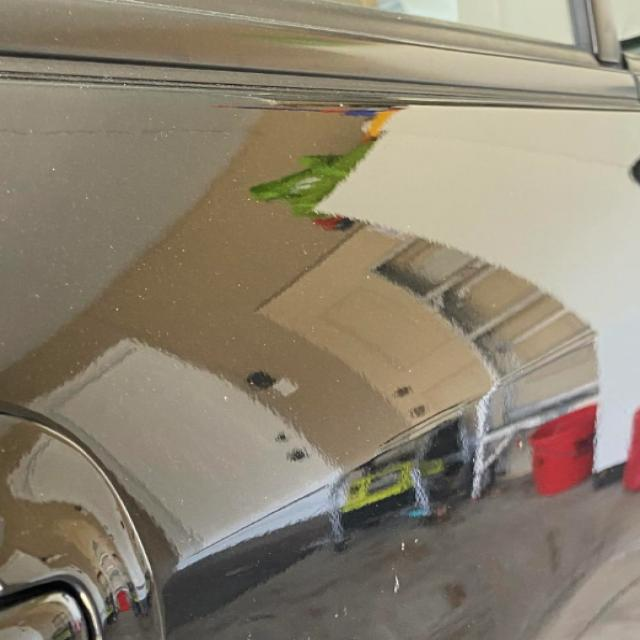dents: (386, 553, 526, 640)
